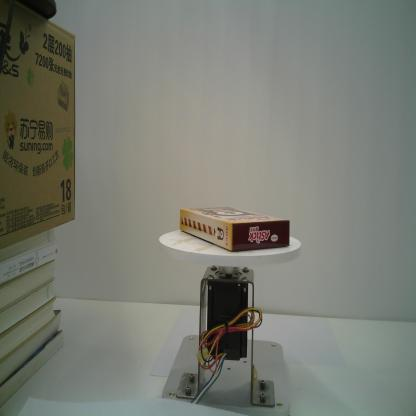Dessert: (178, 204, 290, 253)
